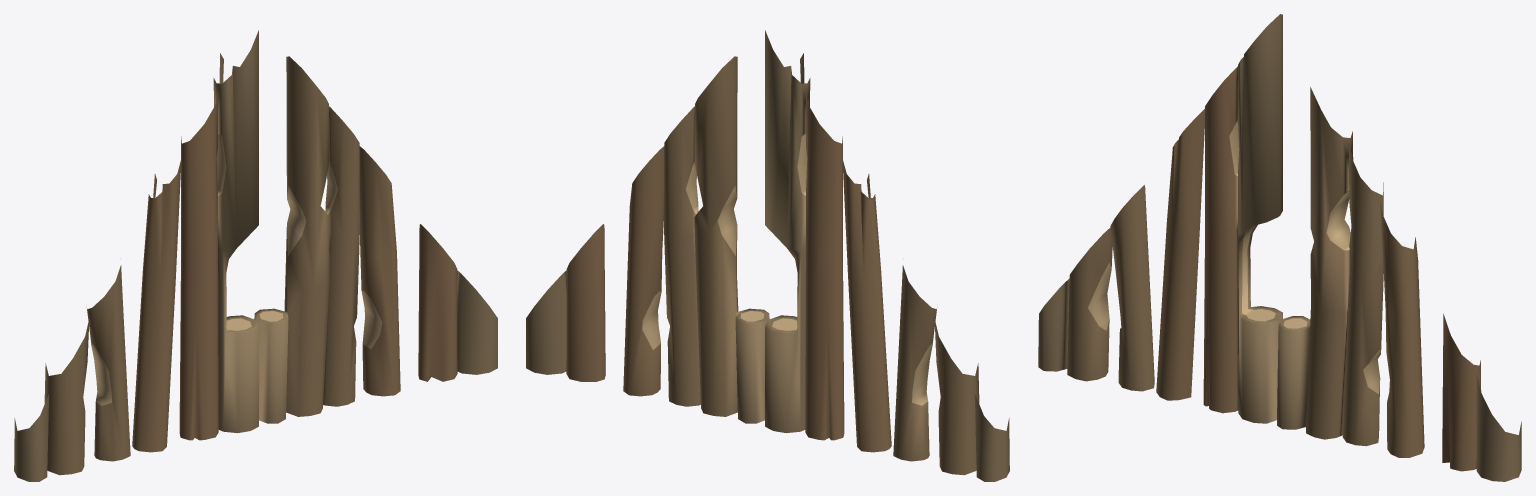
File: rpgpp_av_roof_end_01_6x5_wall_window_04b.gltf
The picture shows the model from 3 angles, left to right: view 1: azimuth 30°, elevation 25°; view 2: azimuth 150°, elevation 25°; view 3: azimuth 330°, elevation 25°; orthographic projection.
Visible parts, largest first — view 1: rpgpp_av_roof_end_01_6x5_wall_window_04b; view 2: rpgpp_av_roof_end_01_6x5_wall_window_04b; view 3: rpgpp_av_roof_end_01_6x5_wall_window_04b.
Boxes of the visible parts, <box> form: rpgpp_av_roof_end_01_6x5_wall_window_04b: <box>14,30,497,481</box>; rpgpp_av_roof_end_01_6x5_wall_window_04b: <box>526,30,1009,481</box>; rpgpp_av_roof_end_01_6x5_wall_window_04b: <box>1038,14,1521,481</box>.
Bounding box in the file's own units: 0.06 × 0.0487 × 0.00463.
Materials: 1 (1 with a texture image).
